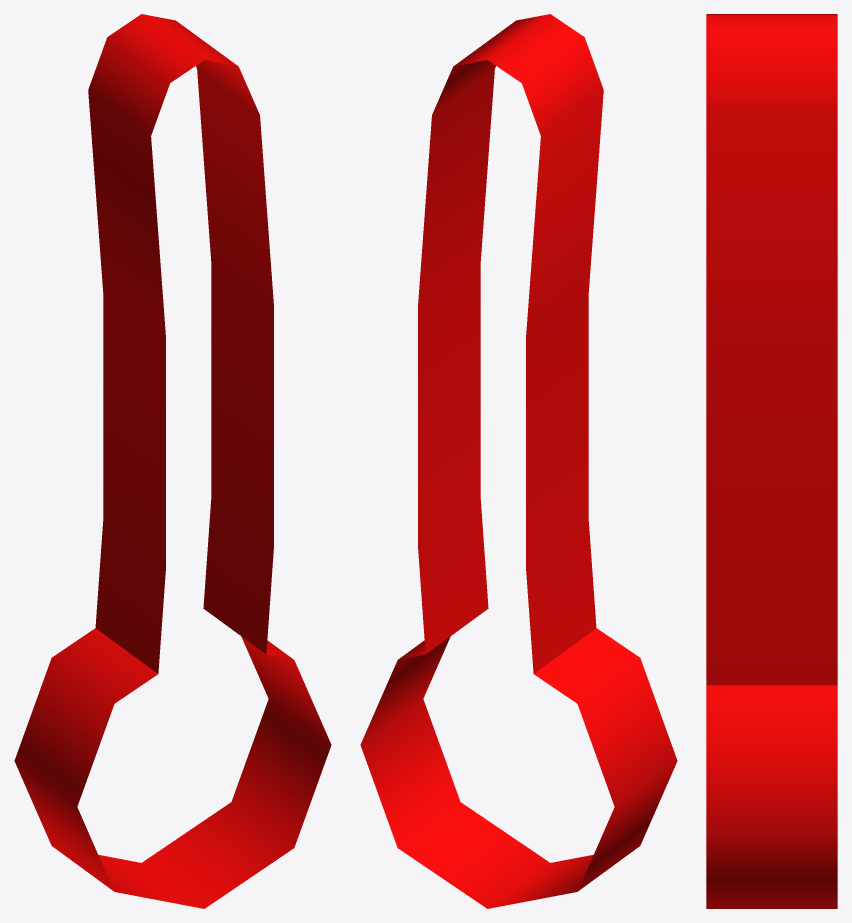
Rendered from original-9.obj.
3 views of the same model, side by side, from view 1: azimuth 30°, elevation 25°; view 2: azimuth 150°, elevation 25°; view 3: azimuth 270°, elevation 25° (orthographic). The views are drawn at different scales.
Visible parts, largest first — view 1: #ID53; view 2: #ID53; view 3: #ID53.
Part boxes in pixels (left/top/right/bottom): #ID53: left=14, top=14, right=331, bottom=908; #ID53: left=360, top=14, right=677, bottom=908; #ID53: left=706, top=14, right=837, bottom=908.
Size of the model in its own units: 0.0992 by 0.3166 by 0.0425.
